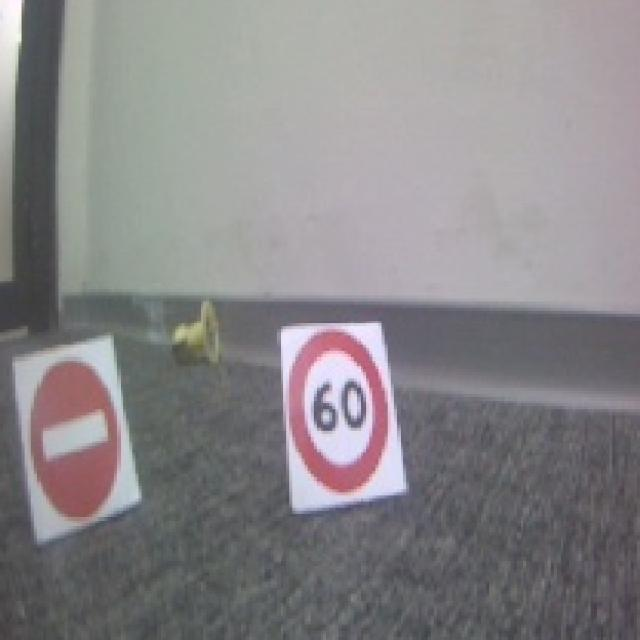DoNotEnterSign: (29, 356, 124, 518)
